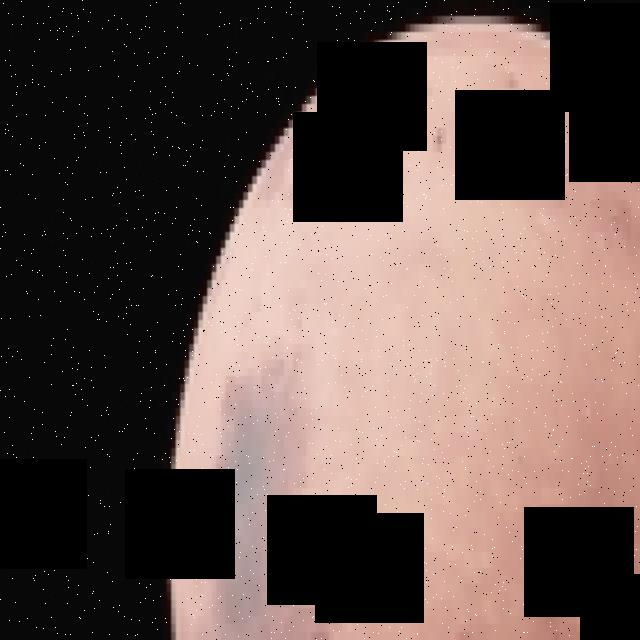Mars: (172, 8, 640, 640)
